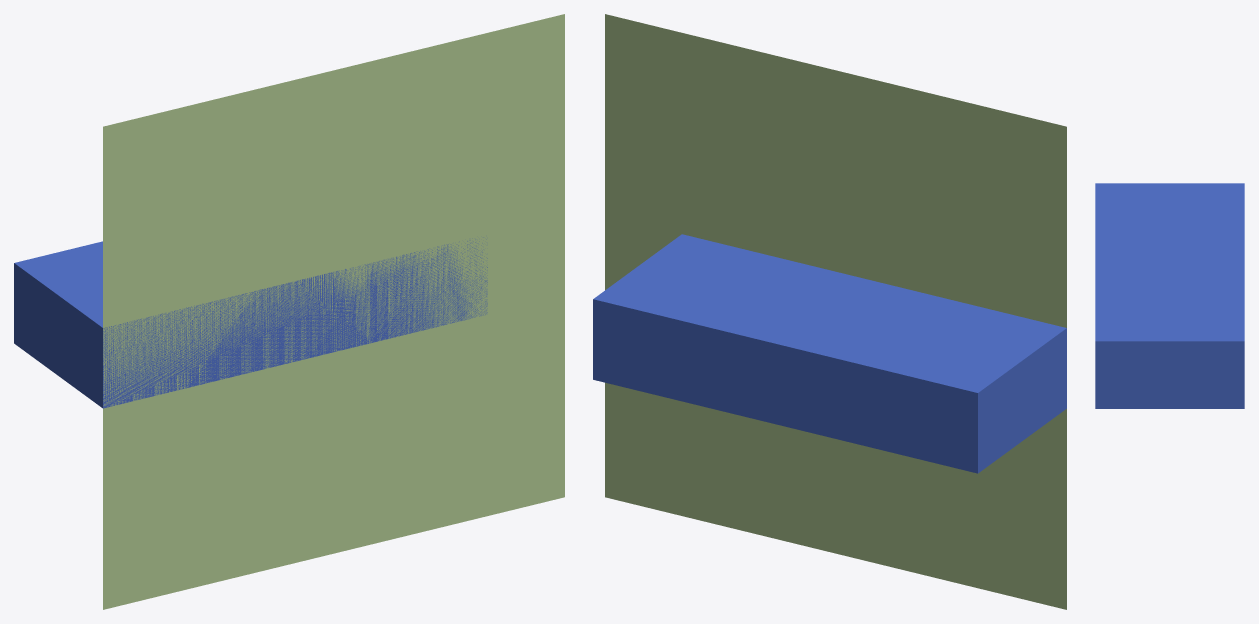
The model's file is 2_test_pared.dae.
3 renders of one model, left to right at view 1: azimuth 30°, elevation 25°; view 2: azimuth 150°, elevation 25°; view 3: azimuth 270°, elevation 25°, orthographic. The views are drawn at different scales.
Visible parts, largest first — view 1: Suelo, Pared; view 2: Suelo, Pared; view 3: Pared.
Part boxes in pixels (x1,y1,x2,y2): Suelo: [103, 14, 564, 609]; Pared: [14, 237, 487, 408]; Suelo: [605, 14, 1066, 609]; Pared: [593, 234, 1066, 473]; Pared: [1095, 183, 1244, 408].
Bounding box in the file's own units: 60 × 20 × 60.
